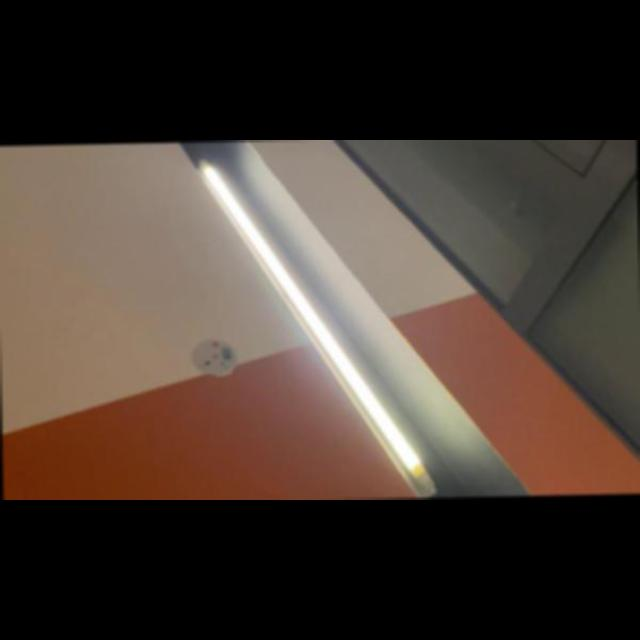Straight-Tube-Fluorescent-Lamp: (184, 148, 442, 500)
